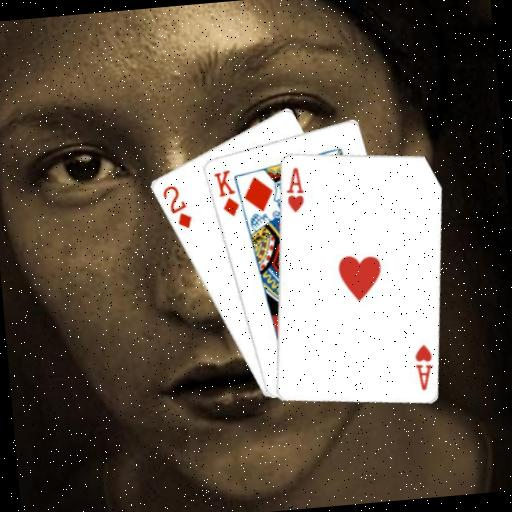2D: (158, 181, 194, 233)
AH: (410, 341, 437, 393), (281, 164, 307, 215)
KD: (210, 166, 241, 220)
